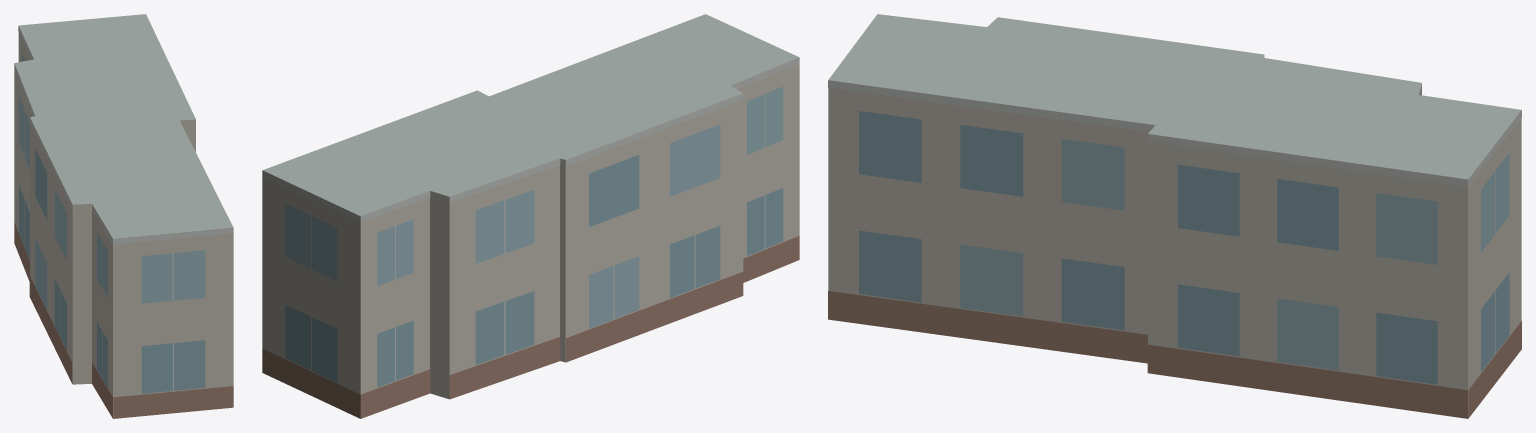
The model's file is survey-upis-32959015.glb.
The picture shows the model from 3 angles, left to right: view 1: azimuth 30°, elevation 25°; view 2: azimuth 150°, elevation 25°; view 3: azimuth 270°, elevation 25°; orthographic projection. The views are drawn at different scales.
Visible parts, largest first — view 1: survey-upis-32959015.tmp; view 2: survey-upis-32959015.tmp; view 3: survey-upis-32959015.tmp.
Part boxes in pixels (x1,y1,x2,y2): survey-upis-32959015.tmp: [14, 14, 233, 418]; survey-upis-32959015.tmp: [262, 14, 799, 418]; survey-upis-32959015.tmp: [828, 14, 1521, 418].
Size of the model in its own units: 11.28 by 7.6 by 19.97.
